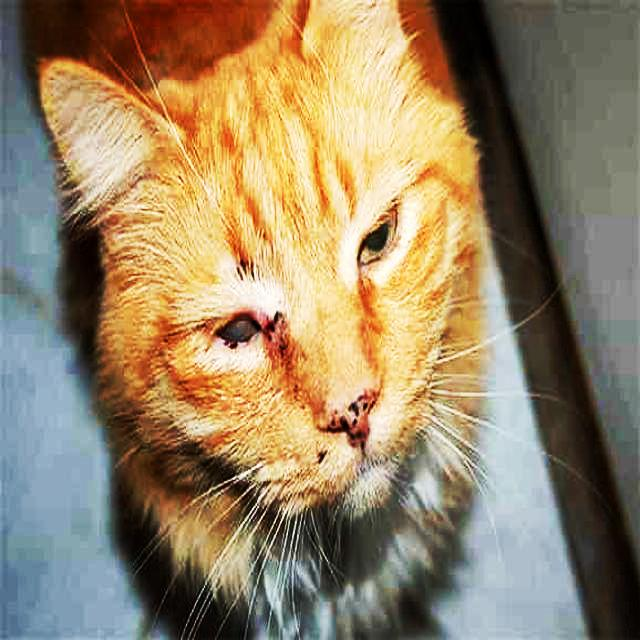eye_infection: (209, 309, 286, 352)
